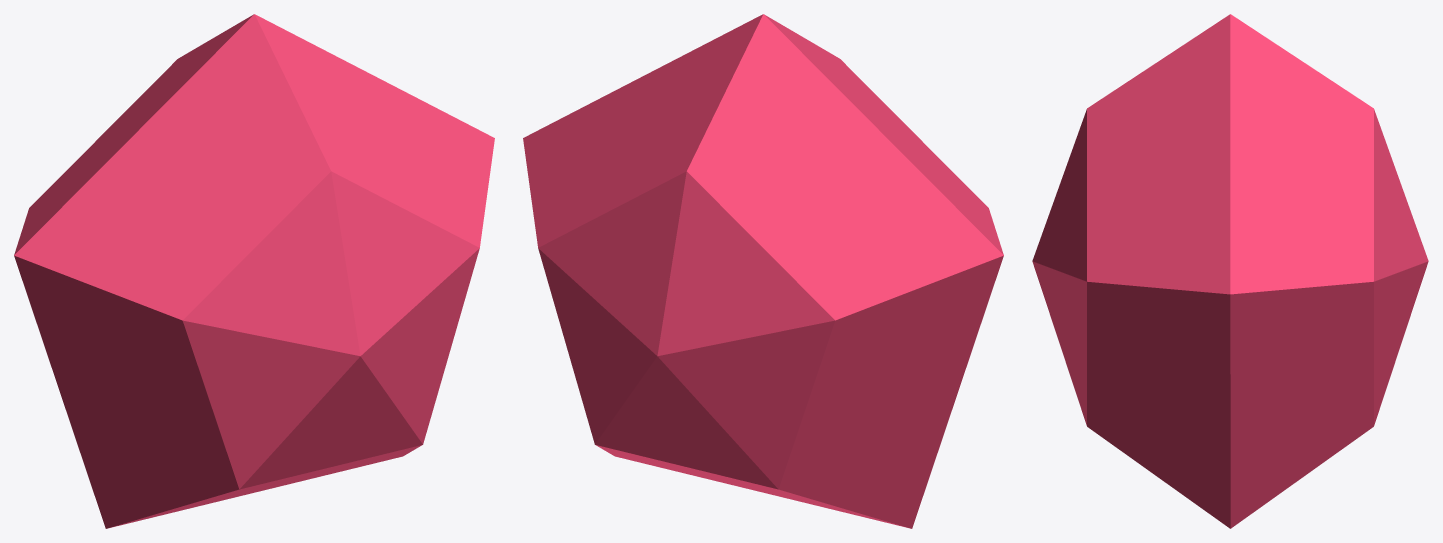
The model's file is DecorationsC.fbx.
The picture shows the model from 3 angles, left to right: view 1: azimuth 30°, elevation 25°; view 2: azimuth 150°, elevation 25°; view 3: azimuth 270°, elevation 25°; orthographic projection. The views are drawn at different scales.
Parts seen in each view (by area): view 1: SM_VA_DecorationsC.mo; view 2: SM_VA_DecorationsC.mo; view 3: SM_VA_DecorationsC.mo.
Part boxes in pixels (x1=…): SM_VA_DecorationsC.mo: x1=14, y1=14, x2=494, y2=528; SM_VA_DecorationsC.mo: x1=523, y1=14, x2=1003, y2=528; SM_VA_DecorationsC.mo: x1=1032, y1=14, x2=1428, y2=528.
Bounding box in the file's own units: 3.62 × 3.44 × 2.76.
